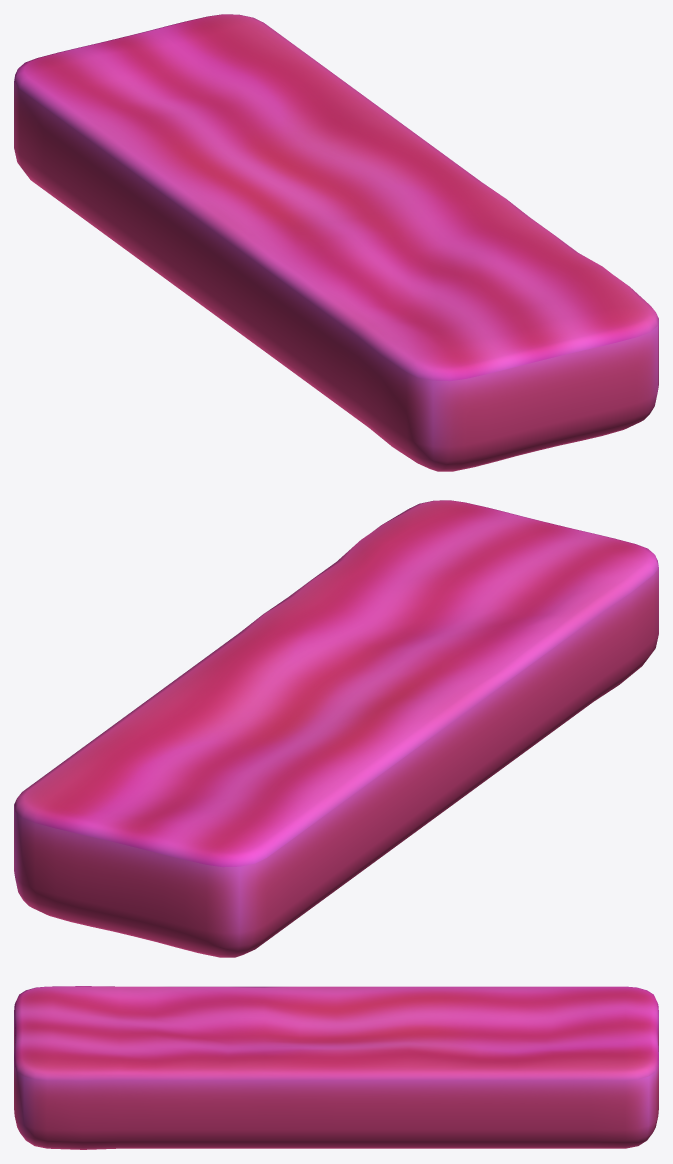
The model's file is Scoopit ke andar ka cream (1).fbx.
3 renders of one model, top to bottom at view 1: azimuth 30°, elevation 25°; view 2: azimuth 150°, elevation 25°; view 3: azimuth 270°, elevation 25°, orthographic. The views are drawn at different scales.
Visible parts, largest first — view 1: Scoop.004; view 2: Scoop.004; view 3: Scoop.004.
Part boxes in pixels (x1,y1,x2,y2): Scoop.004: [14, 14, 658, 471]; Scoop.004: [14, 500, 658, 957]; Scoop.004: [14, 986, 658, 1149].
Bounding box in the file's own units: 166 × 495 × 76.84.
